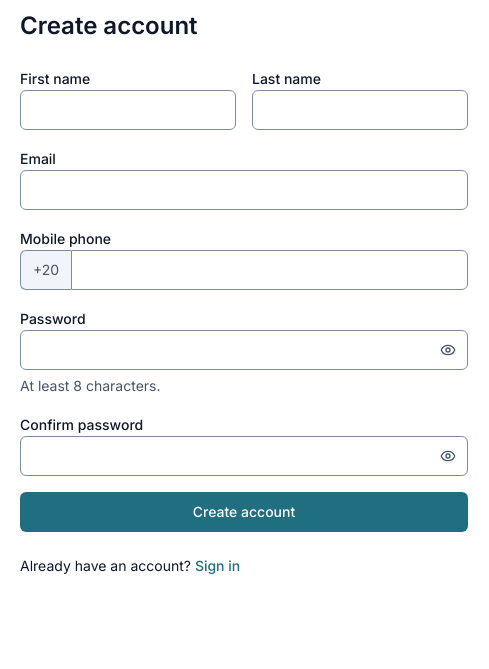
Test: SF-11 Create account › checks the rules on the client: phone prefix, password length, matching confirmation
Type " Mona " into the field labelled "First name".
click(128, 110); type(" Mona ")  # box [20,90,236,130]
Type "Ali" into the field labelled "Last name".
click(360, 110); type("Ali")  # box [252,90,468,130]
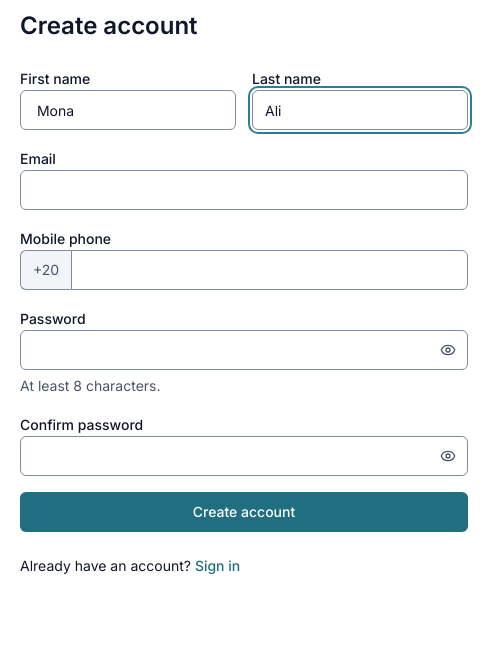
Type "Mona@Example.TEST" into the field labelled "Email".
click(244, 190); type("Mona@Example.TEST")  # box [20,170,468,210]
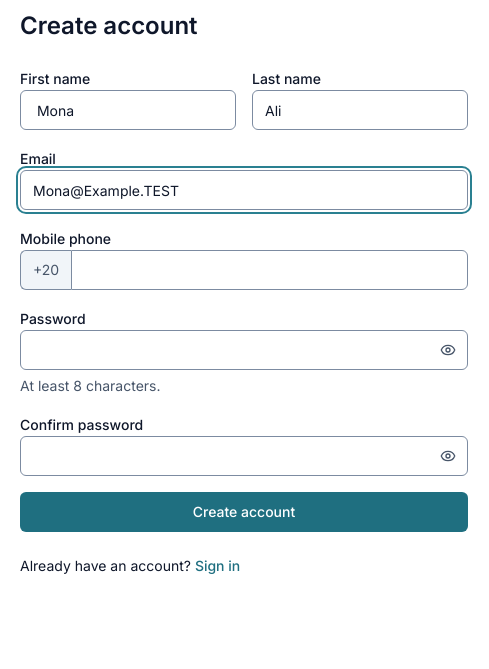
Type "0201234567" into the field labelled "Mobile phone".
click(270, 270); type("0201234567")  # box [71,250,468,290]
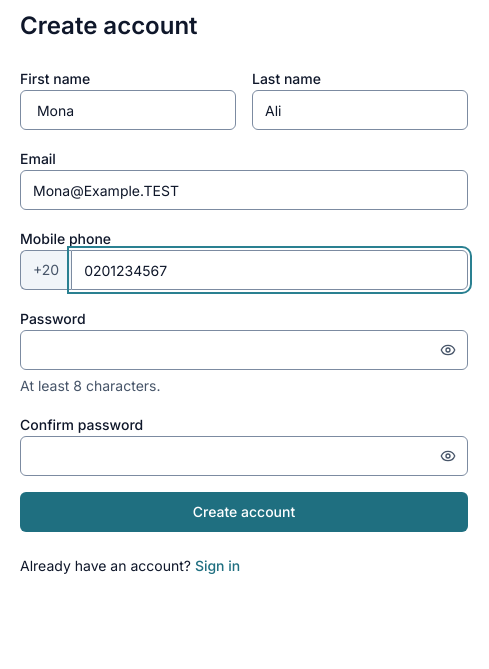
Type "short" into the password field labelled "Password".
click(244, 350); type("short")  # box [20,330,468,370]
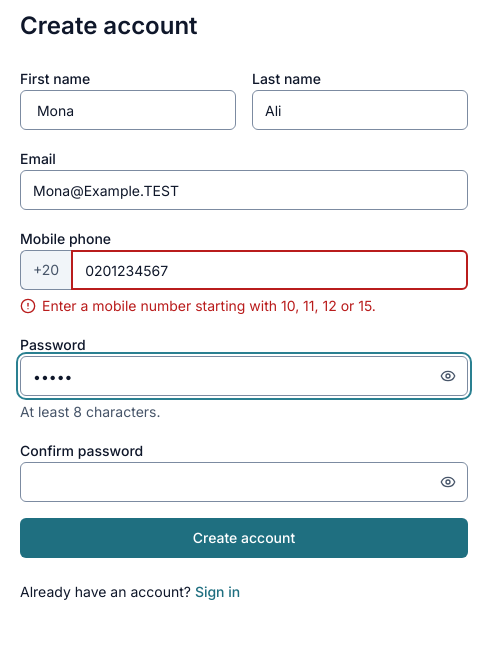
Type "other" into the password field labelled "Confirm password".
click(244, 482); type("other")  # box [20,462,468,502]
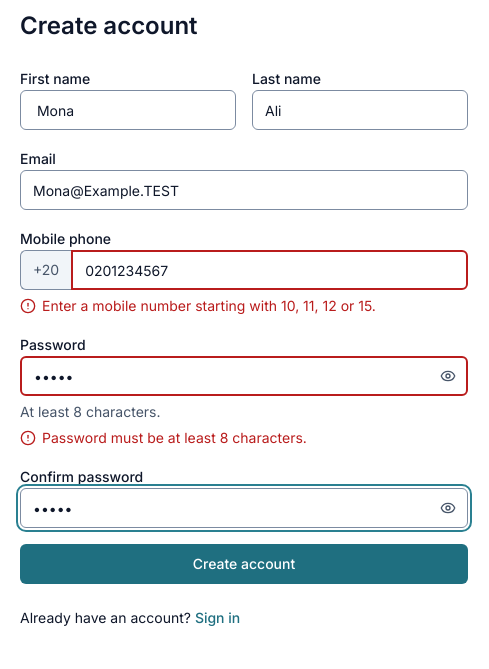
Click the button "Create account".
click(244, 564)  # box [20,544,468,584]
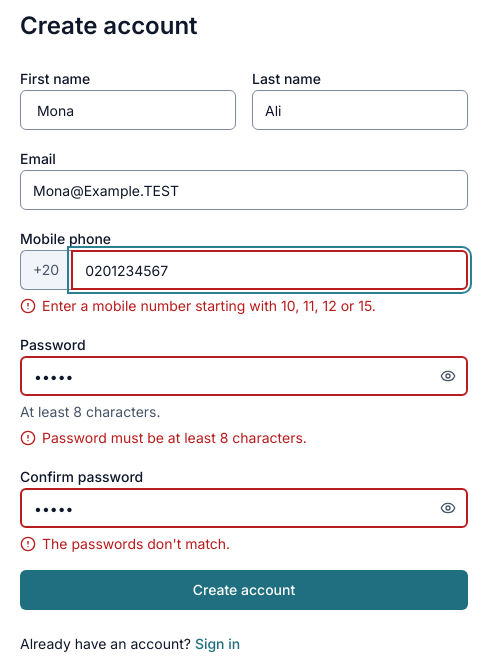
Result: the text "Enter a mobile number starting with 10, 11, 12 or 15." is shown at [20,297,376,314]
Result: the text "Password must be at least 8 characters." is shown at [20,429,307,446]
Result: the text "The passwords don't match." is shown at [20,535,230,552]
